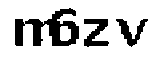6: (50, 7, 80, 51)
m: (10, 15, 59, 52)
v: (114, 14, 149, 51)
z: (81, 18, 111, 47)
